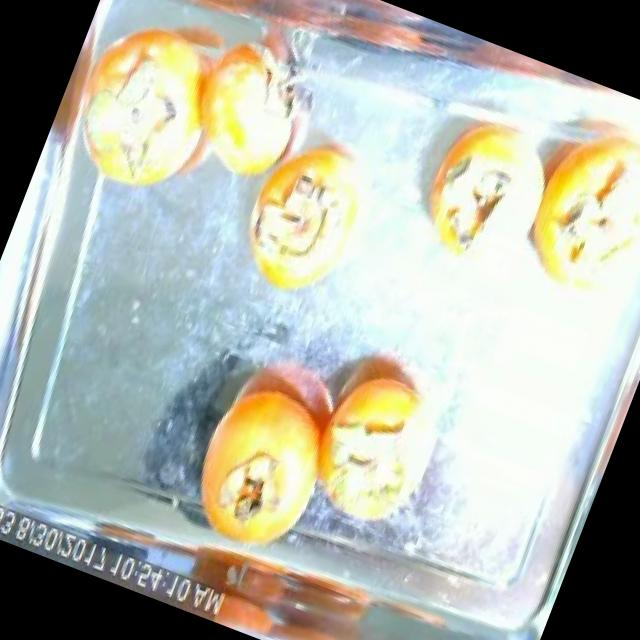Fruit: (162, 331, 377, 579), (308, 328, 444, 467)
